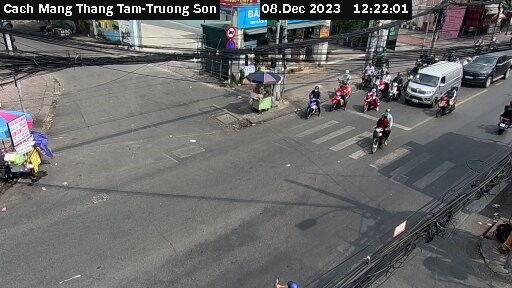car: (406, 60, 464, 108), (464, 50, 510, 89)
motorbike: (363, 110, 400, 154), (292, 81, 330, 117), (429, 89, 462, 114), (357, 86, 385, 113), (490, 103, 512, 134), (326, 82, 350, 109), (357, 61, 376, 79)
